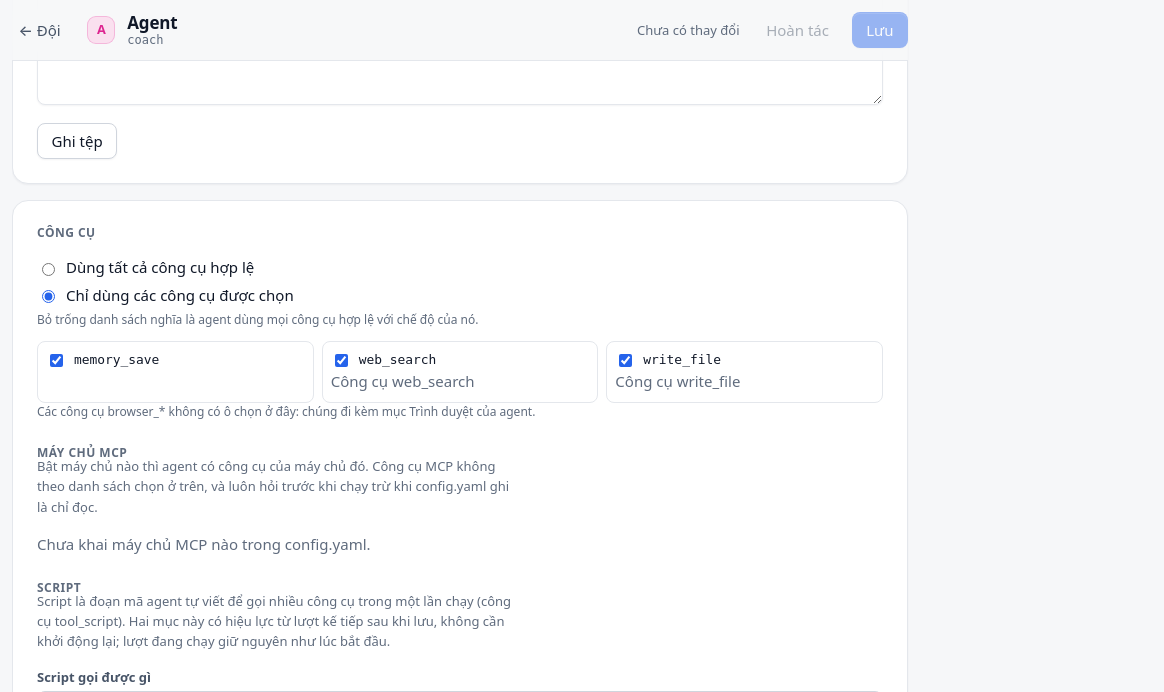
a row unticked and ticked again › leaves nothing to save: memory_save is back where the file's list has it
The width and height of the screenshot is (1164, 692).
(page scrolled)
Click the checkbox labelled "memory_save": point(56, 360) [50,354,63,367]
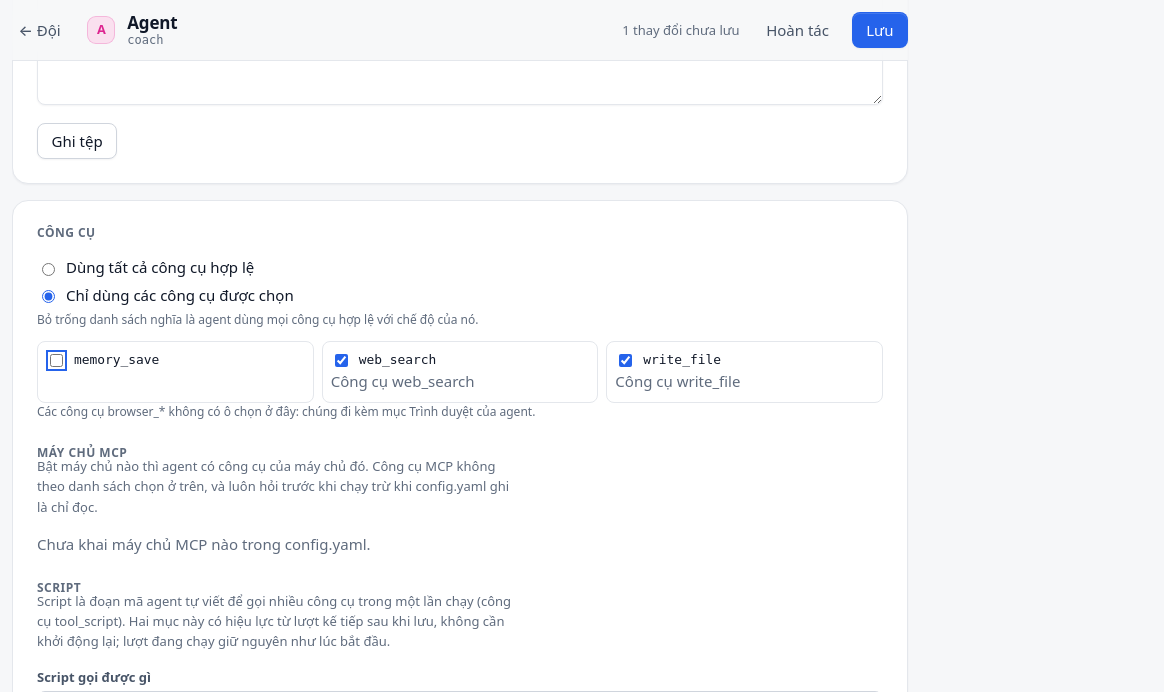
Click the checkbox labelled "memory_save": point(56, 360) [50,354,63,367]
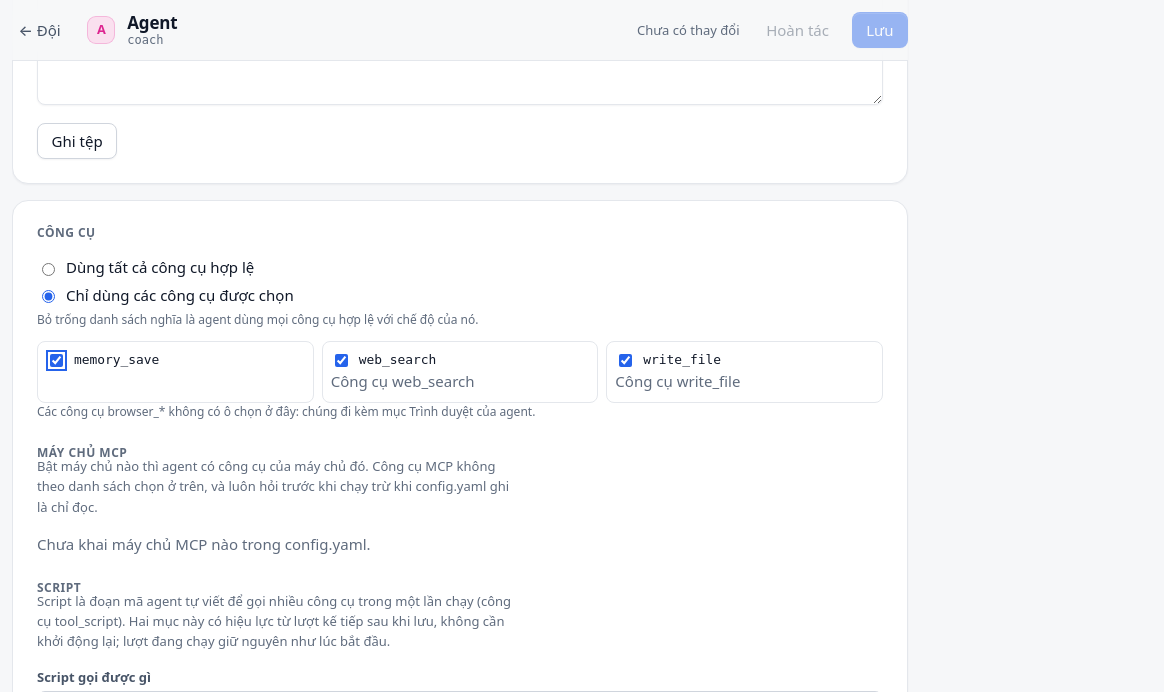
Now the text "Chưa có thay đổi" is shown, box [637,20,740,40]
Now the button "Lưu" is disabled, box [852,12,908,48]
